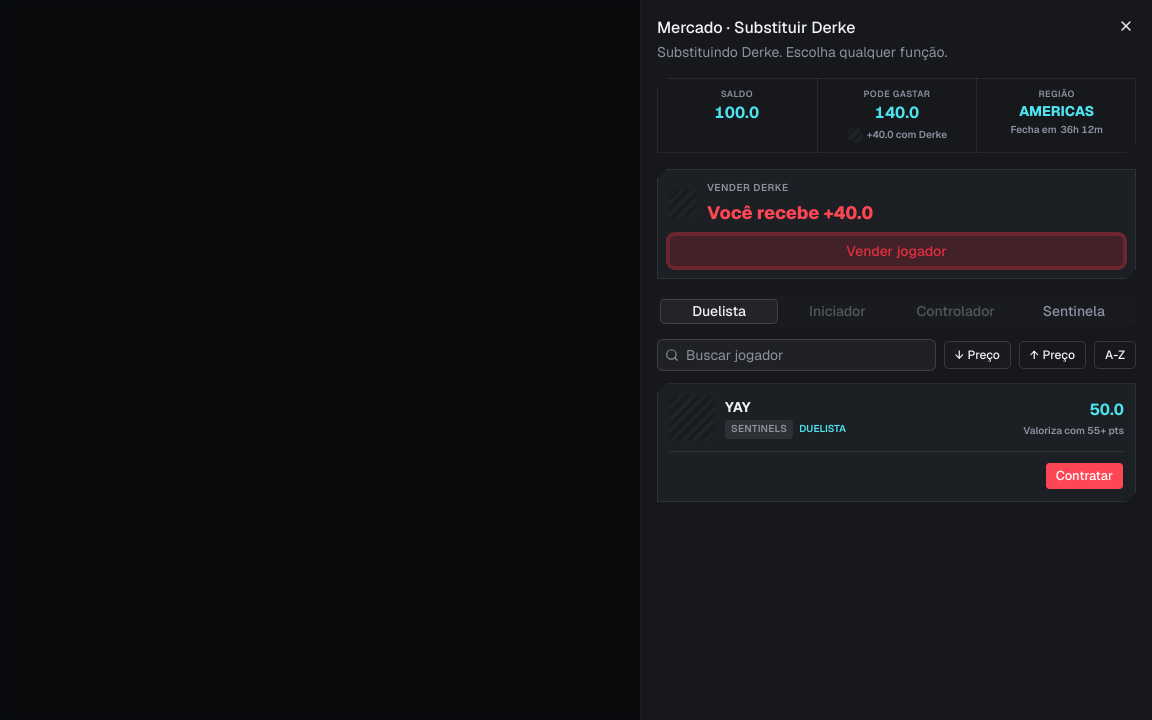
Test: MarketSheet — substituição (vaga ocupada) › abre na aba da função de quem sai, mas qualquer outra função é contratável
Expected: the text "yay" is shown, [725, 398, 751, 416]
Expected: the text "Chronicle" is not shown
Click the tab "Sentinela": click(1074, 311) [1015, 299, 1133, 324]
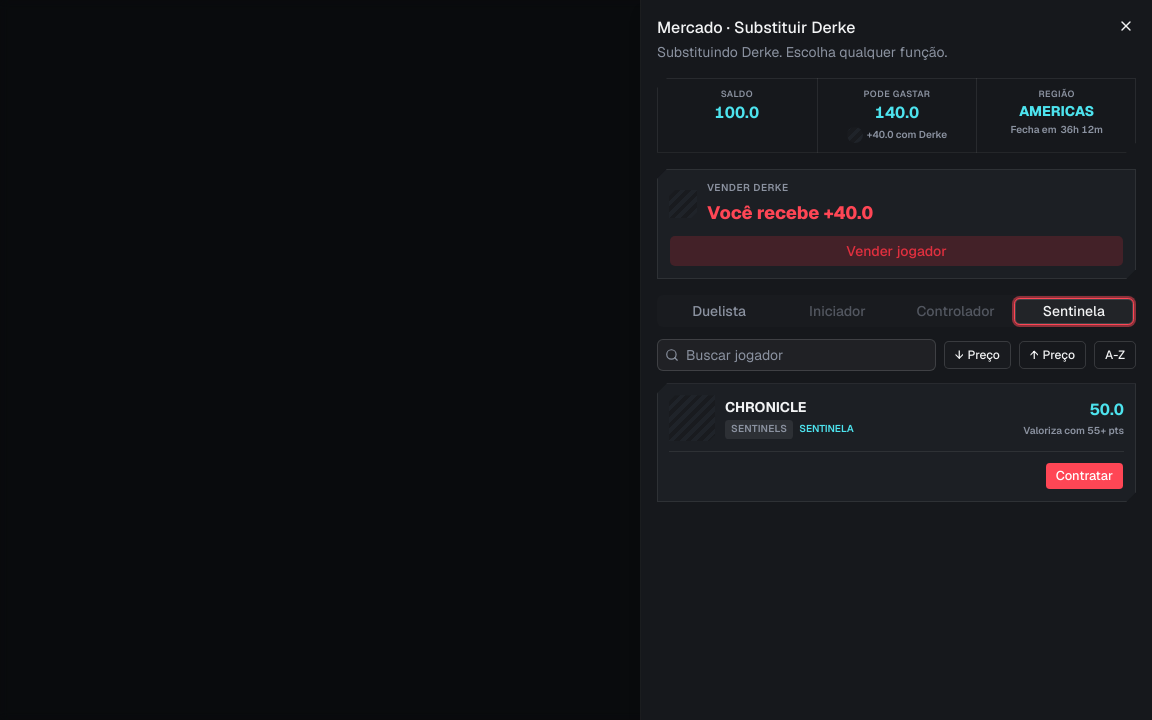
Expected: the text "Chronicle" is shown, [725, 398, 806, 416]
